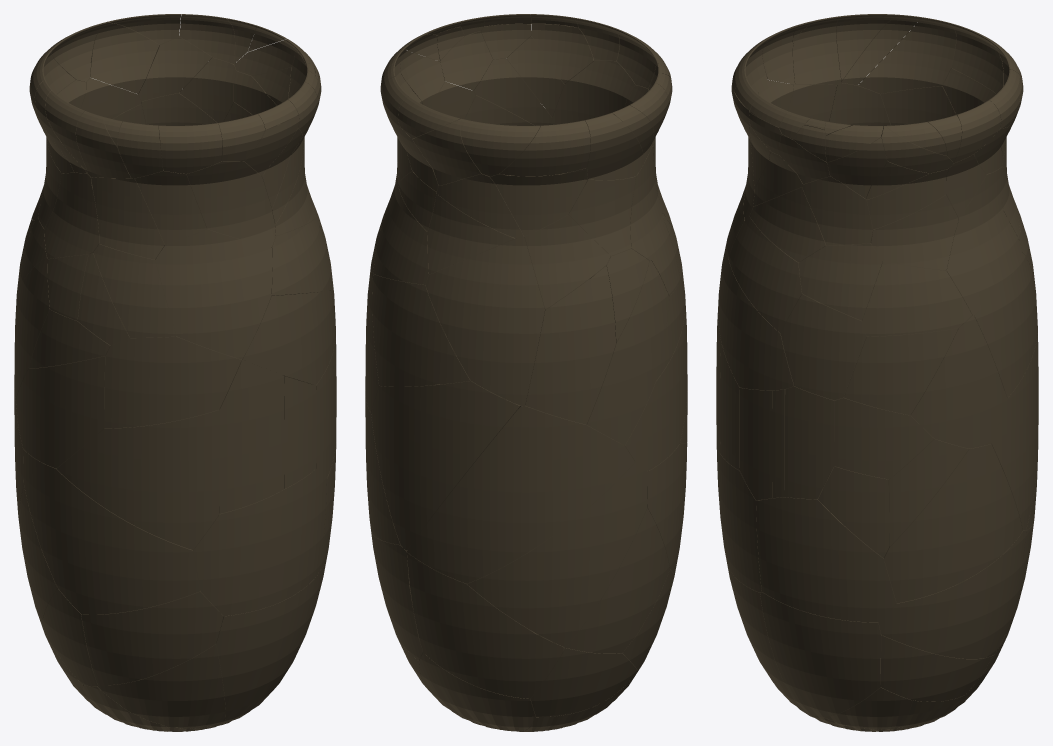
The model's file is SmashedVase3.glb.
3 renders of one model, left to right at view 1: azimuth 30°, elevation 25°; view 2: azimuth 150°, elevation 25°; view 3: azimuth 270°, elevation 25°, orthographic.
Visible parts, largest first — view 1: Cylinder_cell.076, Cylinder_cell.022, Cylinder_cell.013, Cylinder_cell.055, Cylinder_cell.061, Cylinder_cell.081, Cylinder_cell.007, Cylinder_cell.052, Cylinder_cell.048, Cylinder_cell.025, Cylinder_cell.085, Cylinder_cell.021 (+45 smaller); view 2: Cylinder_cell.035, Cylinder_cell.062, Cylinder_cell.051, Cylinder_cell.064, Cylinder_cell.009, Cylinder_cell.093, Cylinder_cell.002, Cylinder_cell.026, Cylinder_cell.046, Cylinder_cell.050, Cylinder_cell.080, Cylinder_cell.052 (+39 smaller); view 3: Cylinder_cell.028, Cylinder_cell.008, Cylinder_cell.043, Cylinder_cell.041, Cylinder_cell.039, Cylinder_cell.049, Cylinder_cell.098, Cylinder_cell.065, Cylinder_cell.005, Cylinder_cell.025, Cylinder_cell.018, Cylinder_cell.002 (+52 smaller).
Part boxes in pixels (x1,y1,x2,y2): Cylinder_cell.076: (23,449,199,614); Cylinder_cell.022: (57,409,219,549); Cylinder_cell.013: (193,469,326,616); Cylinder_cell.055: (155,229,272,359); Cylinder_cell.061: (104,336,241,428); Cylinder_cell.081: (81,591,223,685); Cylinder_cell.007: (219,360,284,513); Cylinder_cell.052: (16,356,105,468); Cylinder_cell.048: (216,575,317,723); Cylinder_cell.025: (242,291,335,385); Cylinder_cell.085: (97,644,225,729); Cylinder_cell.021: (186,161,275,247); Cylinder_cell.035: (406,406,634,583); Cylinder_cell.062: (371,380,520,550); Cylinder_cell.051: (467,462,647,647); Cylinder_cell.064: (425,236,544,405); Cylinder_cell.009: (407,552,565,698); Cylinder_cell.093: (525,265,615,424); Cylinder_cell.002: (372,274,470,386); Cylinder_cell.026: (586,261,669,445); Cylinder_cell.046: (566,508,669,653); Cylinder_cell.050: (530,648,637,716); Cylinder_cell.080: (524,214,610,309); Cylinder_cell.052: (624,299,687,470); Cylinder_cell.028: (756,497,896,622); Cylinder_cell.008: (884,444,1022,603); Cylinder_cell.043: (760,592,880,717); Cylinder_cell.041: (878,530,1026,658); Cylinder_cell.039: (910,315,1007,448); Cylinder_cell.049: (780,294,866,400); Cylinder_cell.098: (844,328,958,415); Cylinder_cell.065: (862,261,971,336); Cylinder_cell.005: (834,397,933,479); Cylinder_cell.025: (718,257,793,390); Cylinder_cell.018: (946,212,1022,314); Cylinder_cell.002: (973,253,1037,398).
Size of the model in its own units: 2.31 by 5.13 by 2.31.
